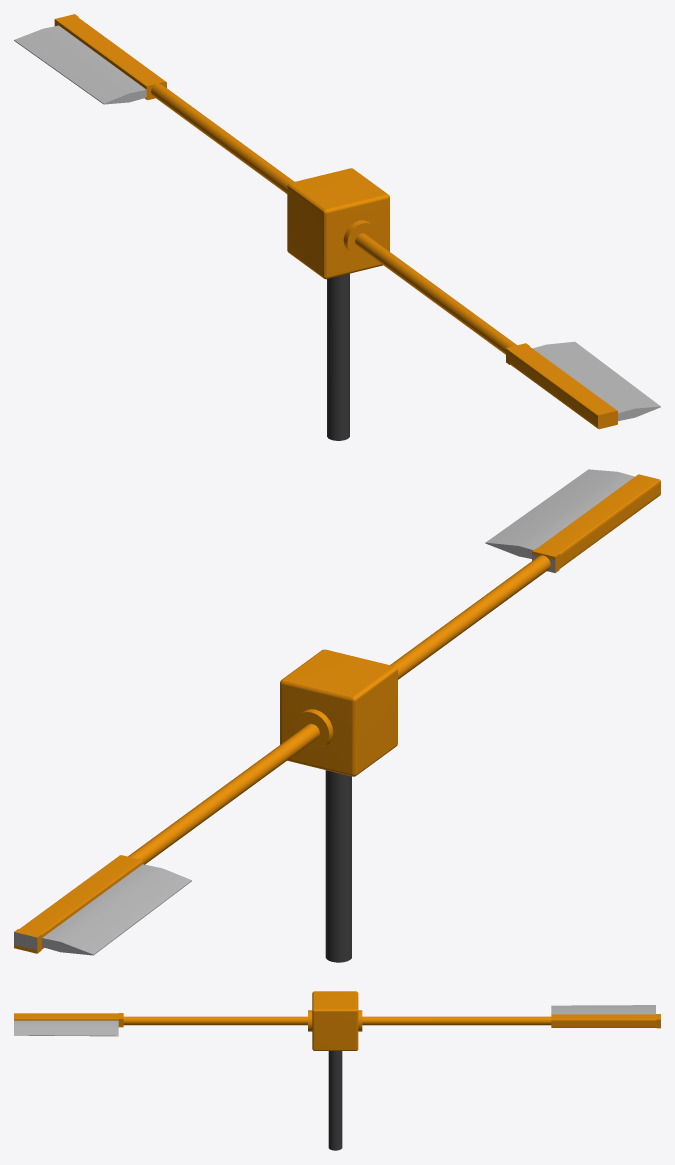
The picture shows the model from 3 angles, top to bottom: view 1: azimuth 30°, elevation 25°; view 2: azimuth 150°, elevation 25°; view 3: azimuth 270°, elevation 25°; orthographic projection. The views are drawn at different scales.
Visible parts, largest first — view 1: polySurface82, polySurface42; view 2: polySurface82, polySurface42; view 3: polySurface82, polySurface42.
Boxes of the visible parts, x1=… form: polySurface82: x1=14, y1=14, x2=660, y2=429; polySurface42: x1=327, y1=273, x2=349, y2=440; polySurface82: x1=14, y1=469, x2=660, y2=955; polySurface42: x1=325, y1=770, x2=351, y2=962; polySurface82: x1=14, y1=991, x2=660, y2=1050; polySurface42: x1=328, y1=1051, x2=342, y2=1150.
Bounding box in the file's own units: 1.64 × 3.53 × 14.04.
